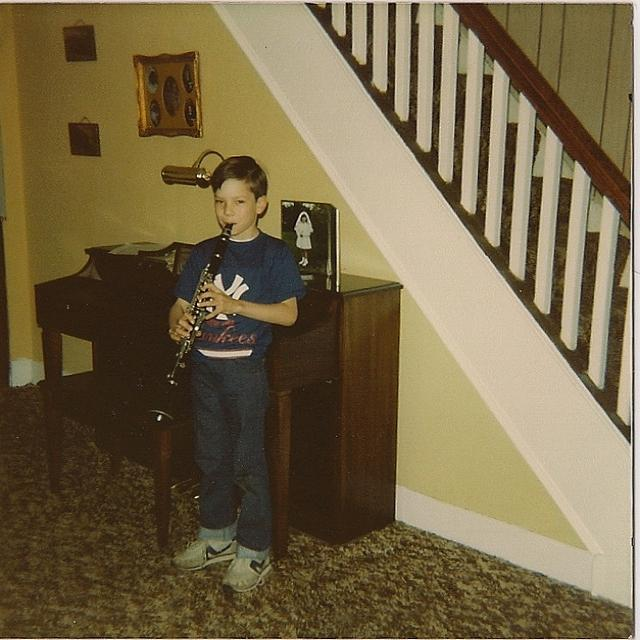clarinet: (146, 221, 240, 427)
